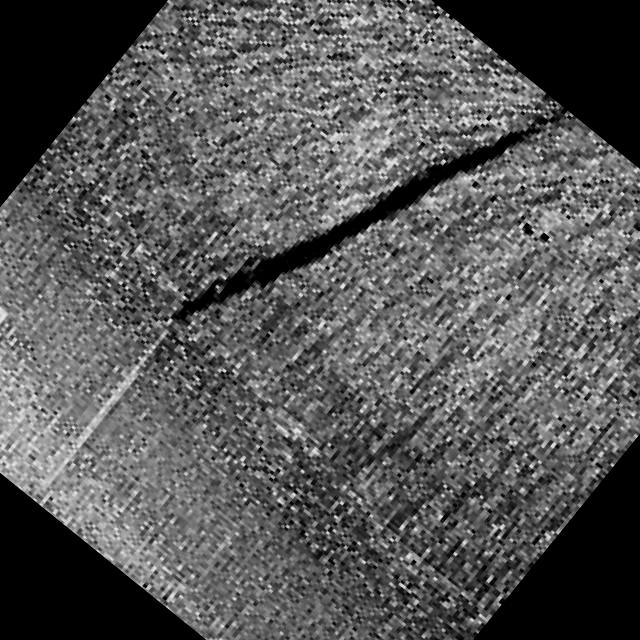defect: (165, 98, 575, 329)
